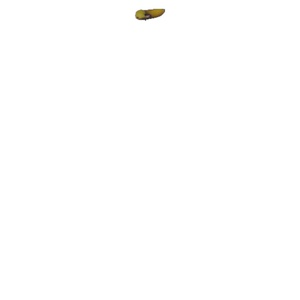banana: (131, 5, 170, 24)
